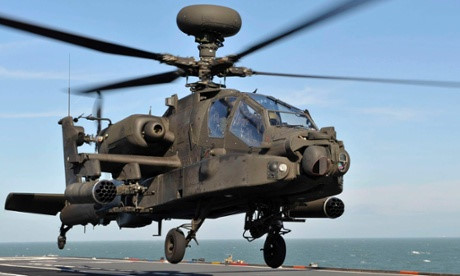MilitaryHelicopter: (78, 23, 359, 237)
